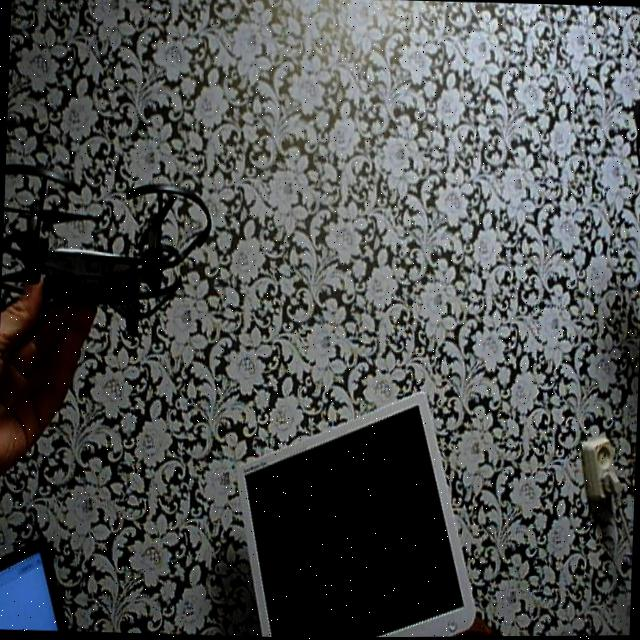drone: (0, 128, 216, 348)
